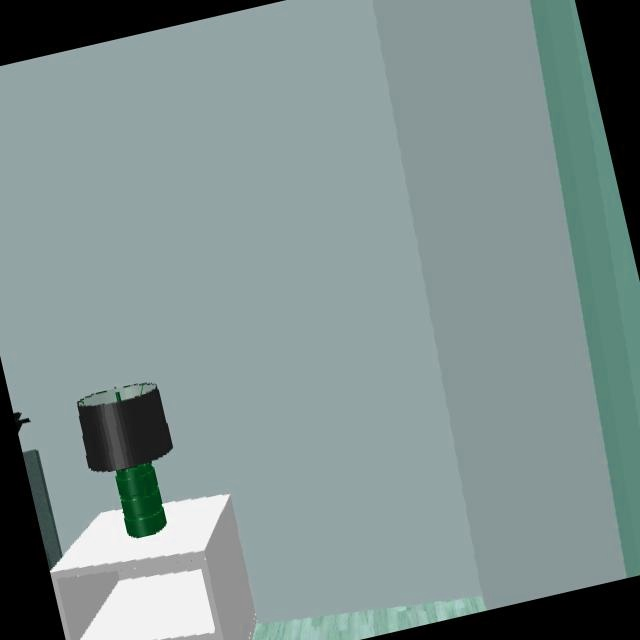bed: (22, 449, 63, 572)
lamp: (76, 382, 174, 540)
nighttable: (49, 494, 255, 640)
